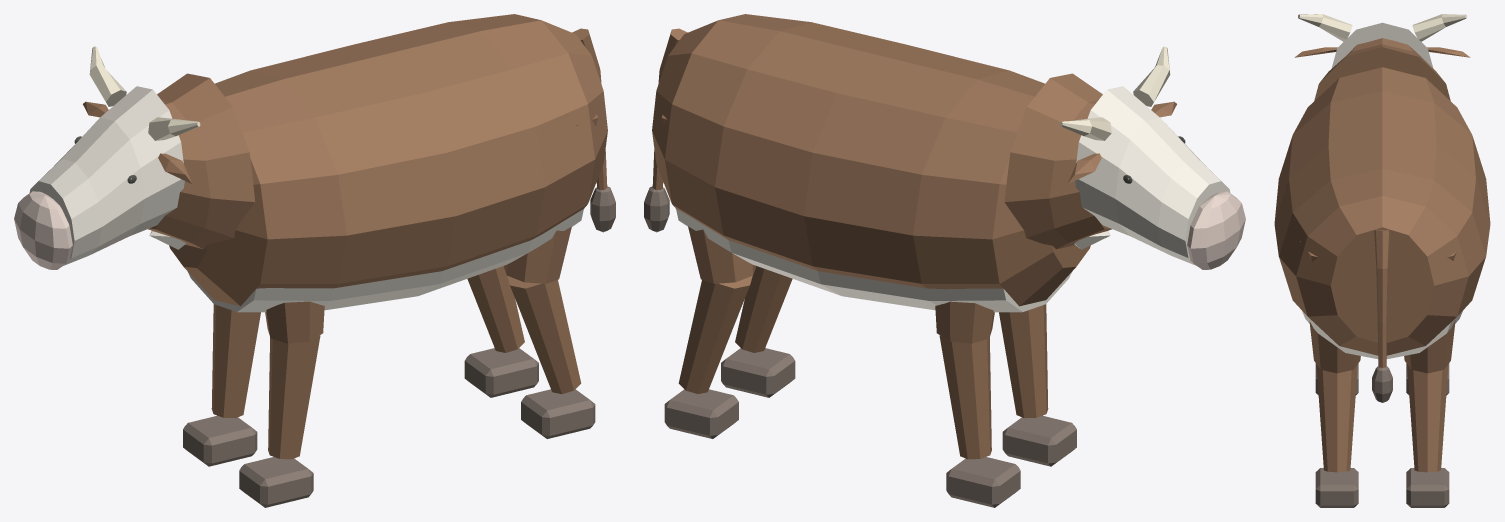
File: cow.glb
3 views of the same model, side by side, from view 1: azimuth 30°, elevation 25°; view 2: azimuth 150°, elevation 25°; view 3: azimuth 270°, elevation 25° (orthographic). The views are drawn at different scales.
Parts seen in each view (by area): view 1: Barrel, Head, Neck, Belly, foreL_Shin, hindL_Shin, foreR_Shin, Muzzle, hindR_Shin, foreR_Hoof, foreL_Hoof, hindR_Hoof (+5 smaller); view 2: Barrel, Head, Neck, Belly, foreR_Shin, hindR_Shin, foreL_Shin, Muzzle, hindL_Shin, foreL_Hoof, foreR_Hoof, hindL_Hoof (+5 smaller); view 3: Barrel, hindL_Shin, hindR_Shin, Neck, Tail, hindL_Hoof, hindR_Hoof, Head, head_ivory, hindL_Upper, hindR_Upper, Belly (+1 smaller).
Boxes of the visible parts, left/top/right/bottom form: Barrel: left=169, top=14, right=607, bottom=306; Head: left=29, top=86, right=184, bottom=265; Neck: left=148, top=73, right=255, bottom=249; Belly: left=188, top=209, right=583, bottom=312; foreL_Shin: left=268, top=335, right=320, bottom=459; hindL_Shin: left=507, top=276, right=581, bottom=393; foreR_Shin: left=211, top=304, right=260, bottom=418; Muzzle: left=14, top=191, right=72, bottom=269; hindR_Shin: left=467, top=266, right=524, bottom=352; foreR_Hoof: left=183, top=415, right=257, bottom=466; foreL_Hoof: left=239, top=457, right=313, bottom=507; hindR_Hoof: left=464, top=348, right=538, bottom=397; Barrel: left=652, top=14, right=1090, bottom=306; Head: left=1075, top=86, right=1230, bottom=265; Neck: left=1004, top=73, right=1111, bottom=249; Belly: left=676, top=209, right=1071, bottom=312; foreR_Shin: left=939, top=335, right=991, bottom=459; hindR_Shin: left=678, top=276, right=752, bottom=393; foreL_Shin: left=999, top=304, right=1048, bottom=418; Muzzle: left=1187, top=191, right=1245, bottom=269; hindL_Shin: left=735, top=266, right=792, bottom=352; foreL_Hoof: left=1002, top=415, right=1076, bottom=466; foreR_Hoof: left=946, top=457, right=1020, bottom=507; hindL_Hoof: left=721, top=348, right=795, bottom=397; Barrel: left=1274, top=67, right=1490, bottom=355; hindL_Shin: left=1316, top=364, right=1357, bottom=472; hindR_Shin: left=1407, top=364, right=1448, bottom=472; Neck: left=1314, top=38, right=1450, bottom=100; Tail: left=1374, top=229, right=1390, bottom=367; hindL_Hoof: left=1315, top=468, right=1358, bottom=507; hindR_Hoof: left=1406, top=468, right=1449, bottom=507; Head: left=1331, top=22, right=1432, bottom=68; head_ivory: left=1298, top=14, right=1466, bottom=41; hindL_Upper: left=1300, top=241, right=1360, bottom=373; hindR_Upper: left=1404, top=252, right=1456, bottom=373; Belly: left=1302, top=311, right=1462, bottom=358.
Size of the model in its own units: 0.771 by 0.5207 by 0.305.
